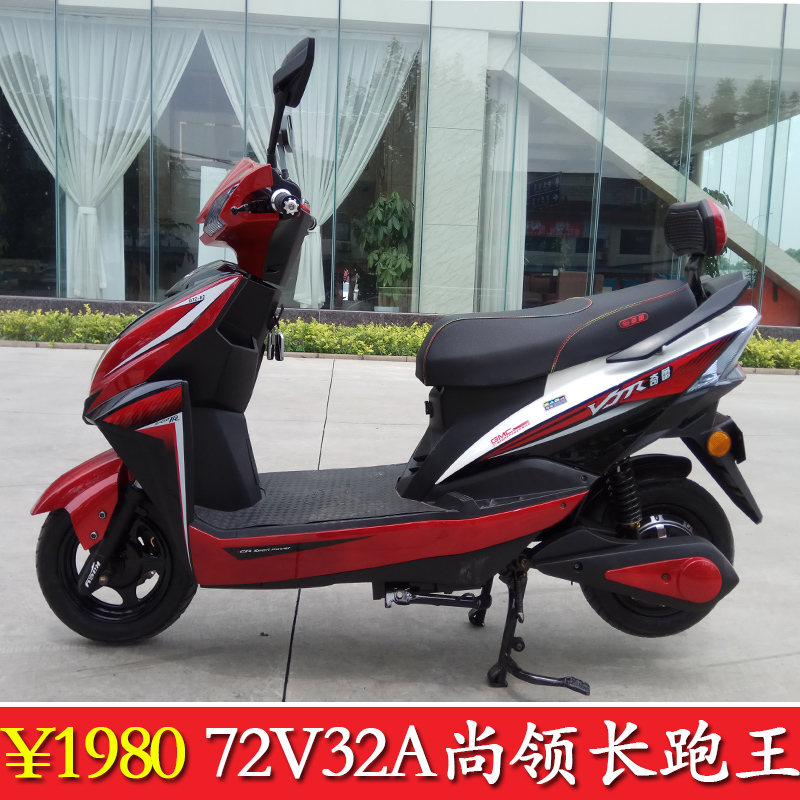电动车: (18, 27, 776, 700)
